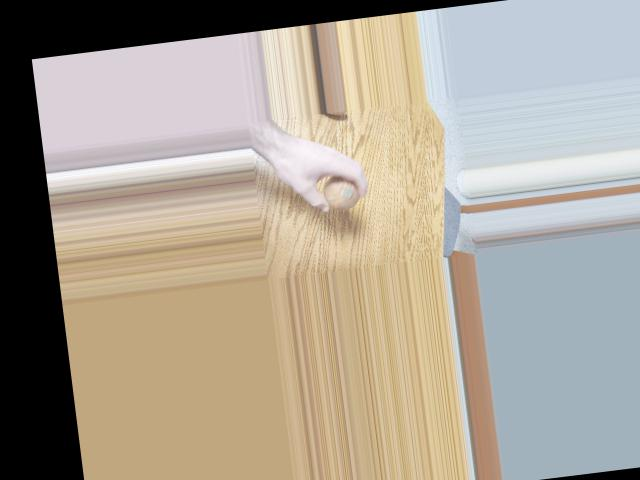onion: (320, 174, 362, 213)
